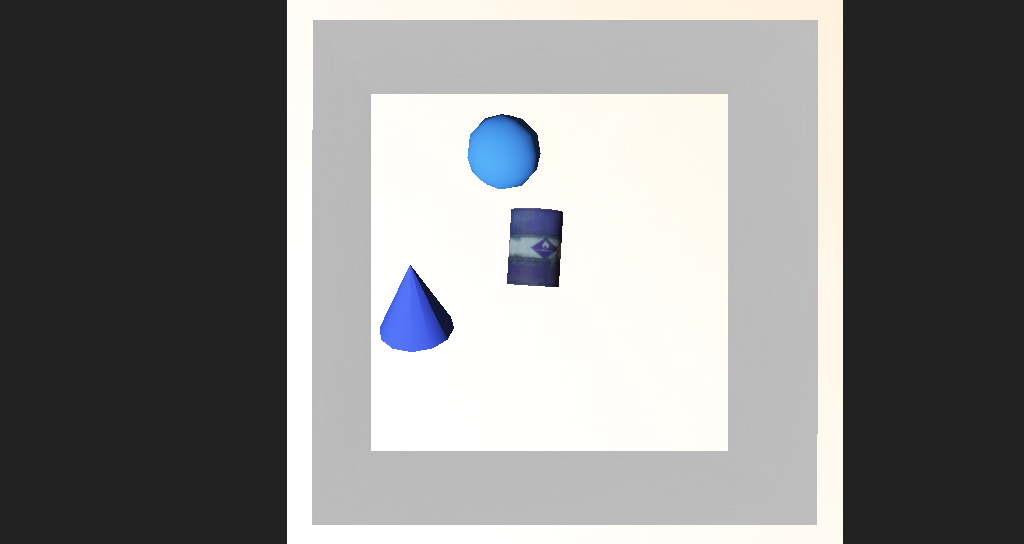cone: (465, 229, 519, 277)
cylinder: (354, 255, 428, 317)
sphere: (431, 172, 499, 220)
